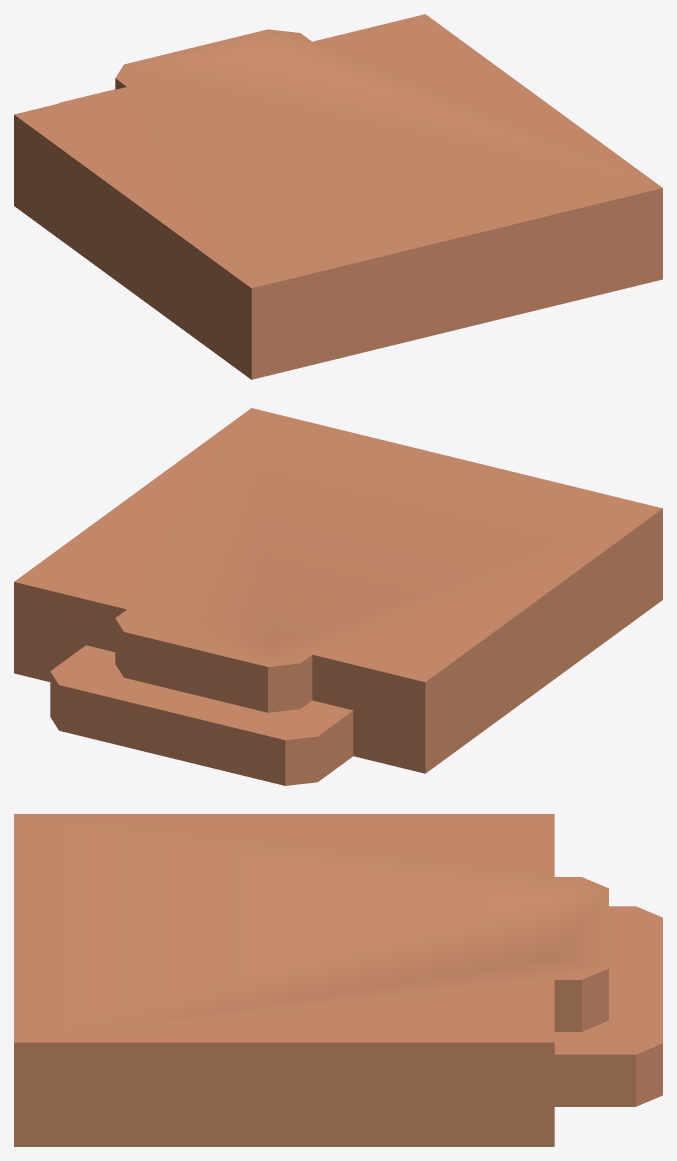
File: StepsBase.fbx
3 renders of one model, top to bottom at view 1: azimuth 30°, elevation 25°; view 2: azimuth 150°, elevation 25°; view 3: azimuth 270°, elevation 25°, orthographic. The views are drawn at different scales.
Parts seen in each view (by area): view 1: StepsBase; view 2: StepsBase; view 3: StepsBase.
Part boxes in pixels (<box>): StepsBase: <box>14,14,662,379</box>; StepsBase: <box>14,408,662,785</box>; StepsBase: <box>14,814,662,1146</box>.
Size of the model in its own units: 300 by 63.75 by 360.
